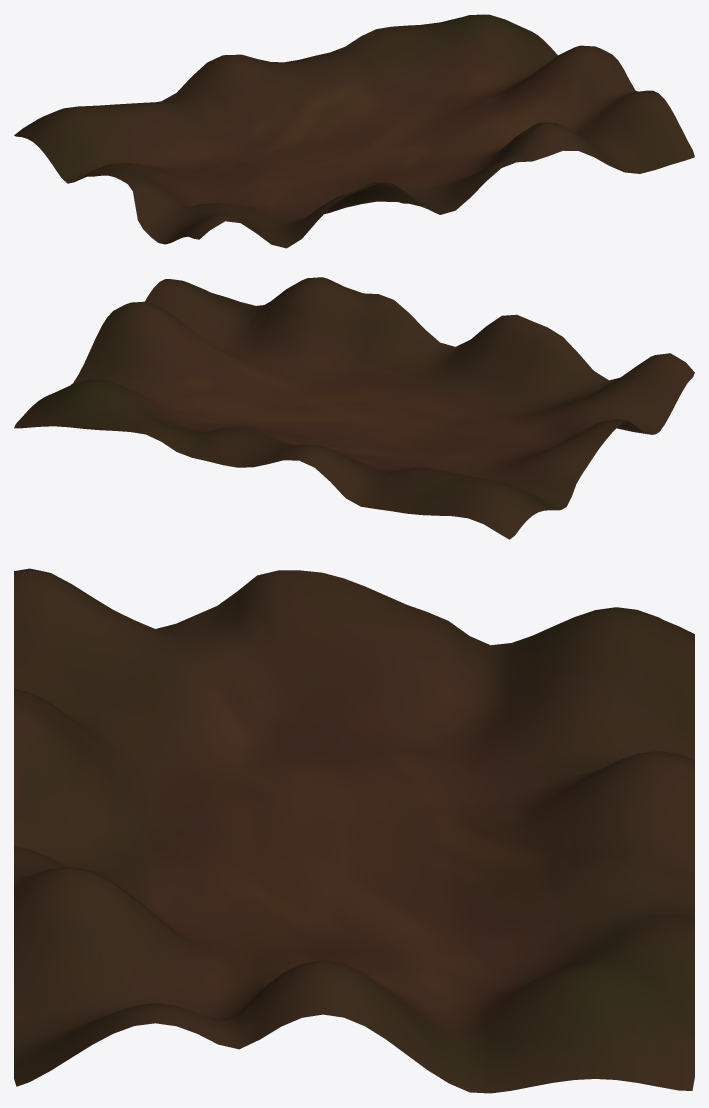
File: Map.fbx
3 renders of one model, top to bottom at view 1: azimuth 30°, elevation 25°; view 2: azimuth 150°, elevation 25°; view 3: azimuth 270°, elevation 25°, orthographic. The views are drawn at different scales.
Parts seen in each view (by area): view 1: terreno; view 2: terreno; view 3: terreno.
Part boxes in pixels (x1=…): terreno: x1=14, y1=14, x2=694, y2=248; terreno: x1=14, y1=277, x2=694, y2=539; terreno: x1=14, y1=568, x2=694, y2=1093.
Bounding box in the file's own units: 44771 × 5005 × 28747.
